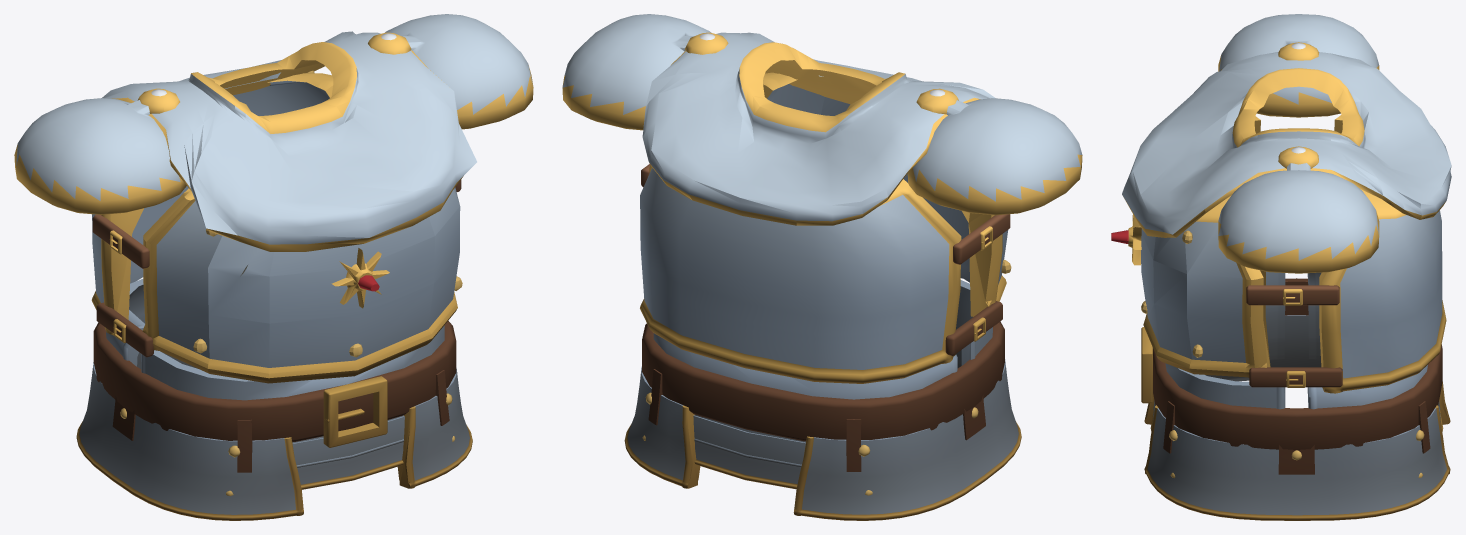
The model's file is gilded_full_plate.glb.
3 views of the same model, side by side, from view 1: azimuth 30°, elevation 25°; view 2: azimuth 150°, elevation 25°; view 3: azimuth 270°, elevation 25° (orthographic). The views are drawn at different scales.
Parts seen in each view (by area): view 1: Item; view 2: Item; view 3: Item.
Part boxes in pixels (bbox=[...]): Item: bbox=[14, 14, 533, 520]; Item: bbox=[562, 14, 1082, 520]; Item: bbox=[1111, 14, 1451, 520].
Bounding box in the file's own units: 1.23 × 0.9144 × 0.802.
Materials: 4 (4 with a texture image).
